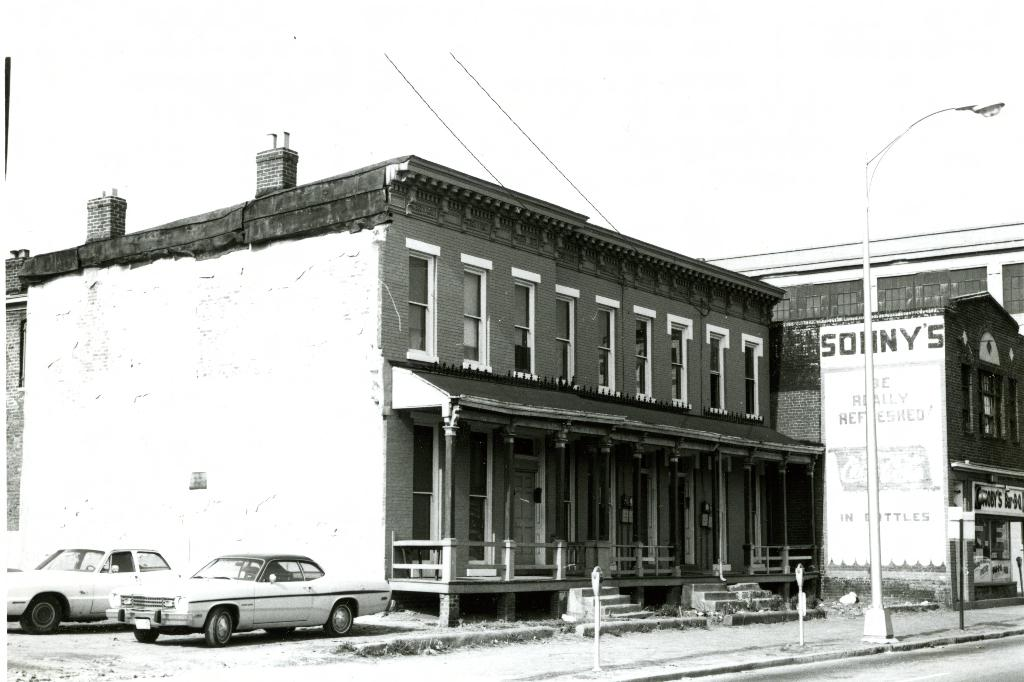Car: (87, 557, 369, 655), (0, 537, 183, 631)
